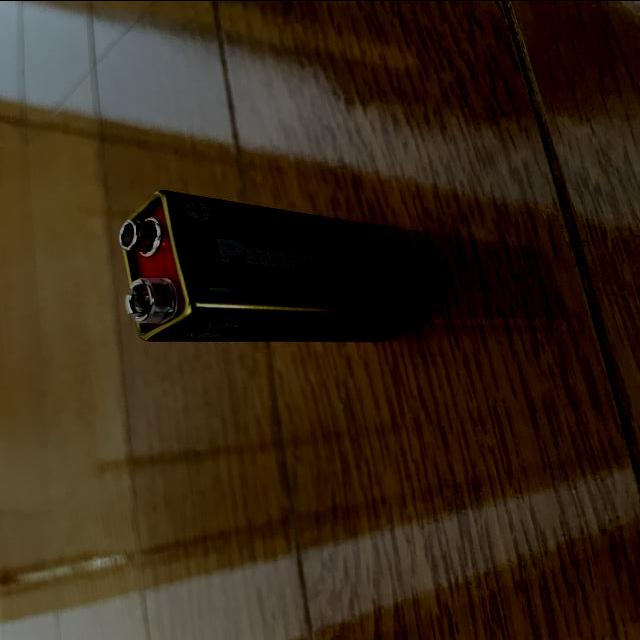9V: (117, 187, 425, 341)
